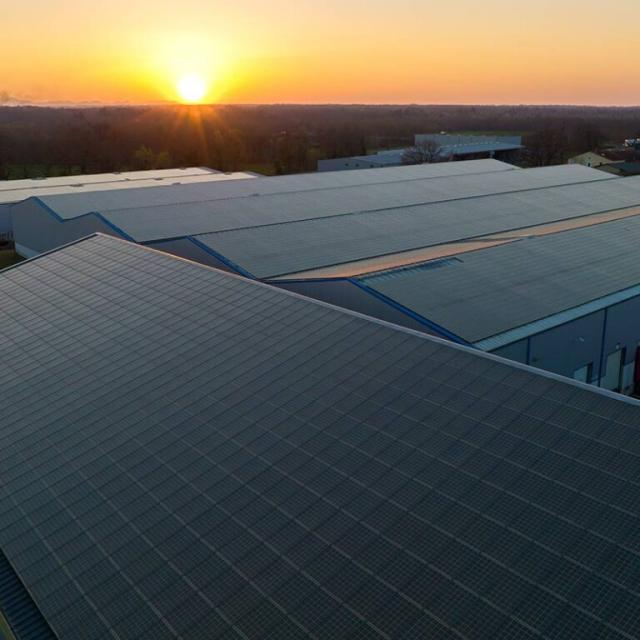clean-solar-panel: (0, 234, 640, 640), (39, 160, 640, 278), (352, 215, 640, 345)
